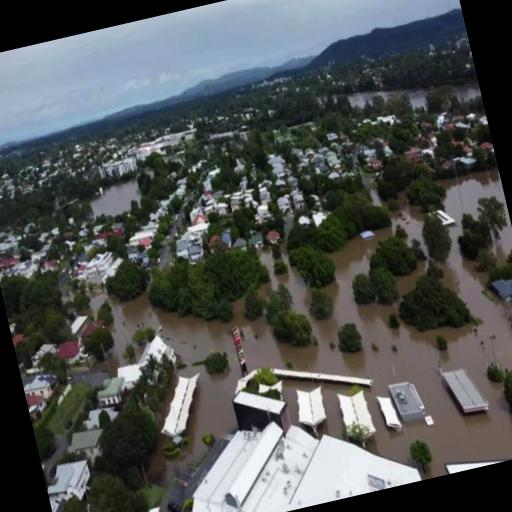flood: (113, 228, 394, 453), (354, 298, 504, 430), (439, 167, 512, 371), (373, 391, 512, 477), (348, 88, 430, 108), (93, 182, 137, 216), (391, 198, 424, 243), (453, 84, 482, 101)
house: (151, 393, 427, 512), (43, 461, 105, 512), (94, 370, 136, 414), (174, 226, 210, 268), (68, 426, 106, 464), (82, 249, 116, 284), (54, 335, 88, 368), (22, 378, 54, 407)
